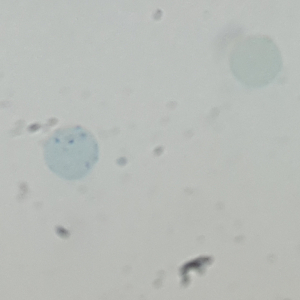erythrocyte: (227, 34, 284, 89)
punctate reticulocyte: (42, 123, 100, 182)
